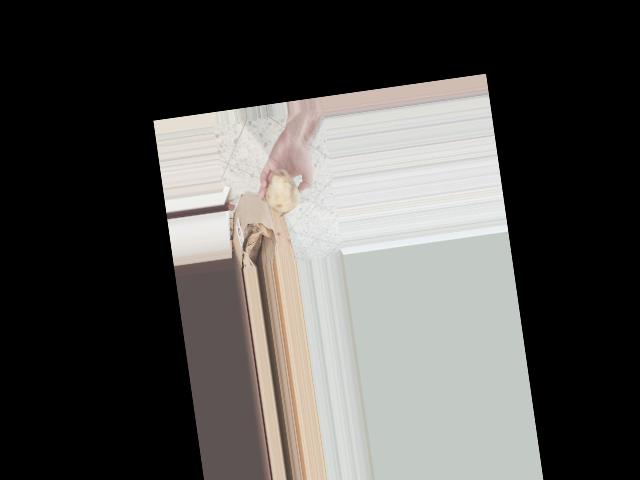onion: (259, 164, 304, 217)
